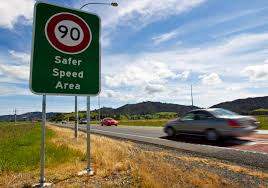Speed_limit_90km: (44, 11, 92, 55)
